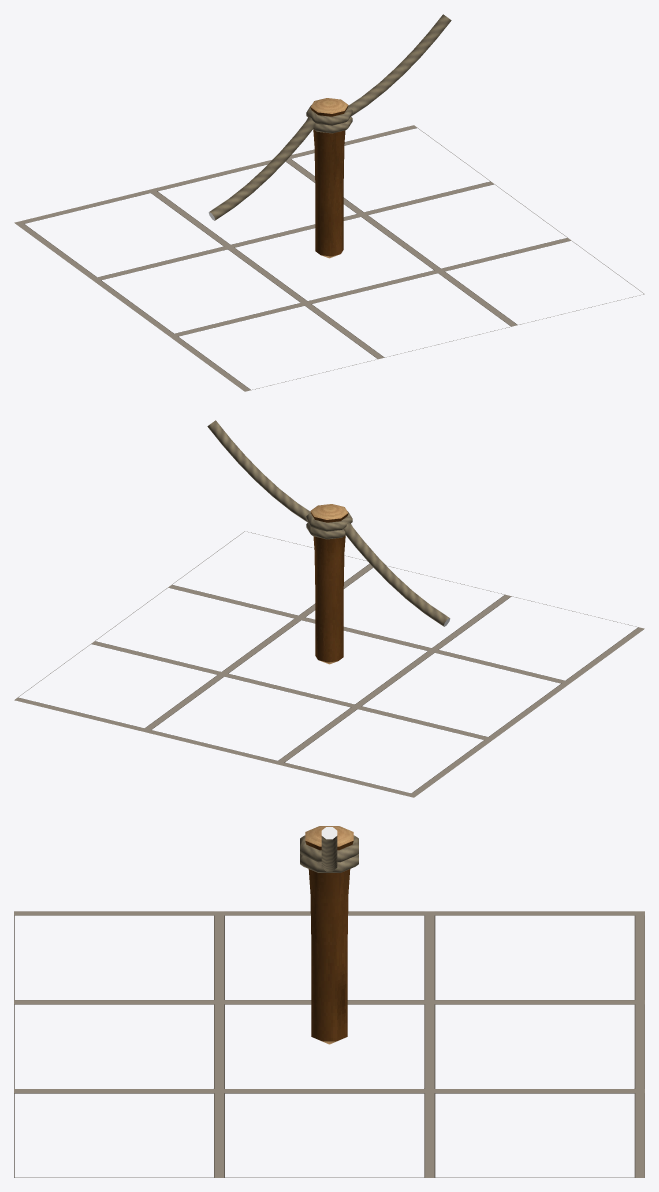
Rendered from Docks_Railing_Posts_Steps_Roped_1x3.glb.
The picture shows the model from 3 angles, top to bottom: view 1: azimuth 30°, elevation 25°; view 2: azimuth 150°, elevation 25°; view 3: azimuth 270°, elevation 25°; orthographic projection. The views are drawn at different scales.
Parts seen in each view (by area): view 1: Floor, Docks_Railing_Posts_Steps_Roped_1x3; view 2: Floor, Docks_Railing_Posts_Steps_Roped_1x3; view 3: Floor, Docks_Railing_Posts_Steps_Roped_1x3.
Boxes of the visible parts, bbox=[...] form: Floor: bbox=[14, 125, 644, 391]; Docks_Railing_Posts_Steps_Roped_1x3: bbox=[208, 14, 451, 258]; Floor: bbox=[14, 531, 644, 797]; Docks_Railing_Posts_Steps_Roped_1x3: bbox=[207, 420, 450, 664]; Floor: bbox=[14, 911, 644, 1177]; Docks_Railing_Posts_Steps_Roped_1x3: bbox=[300, 826, 358, 1044].
Size of the model in its own units: 300 by 154 by 300.
5 materials, 4 textured.
